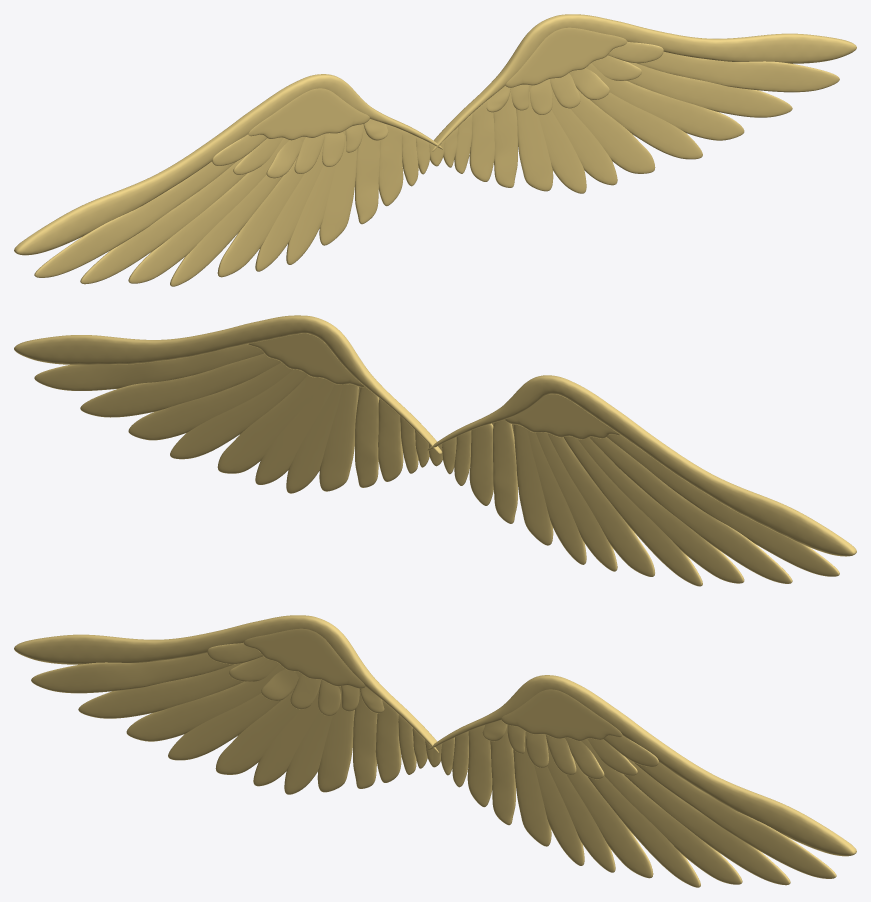
The model's file is Copper-wings.gltf.
3 views of the same model, one above another, from view 1: azimuth 30°, elevation 25°; view 2: azimuth 150°, elevation 25°; view 3: azimuth 330°, elevation 25° (orthographic).
Parts seen in each view (by area): view 1: Copper wings3; view 2: Copper wings3; view 3: Copper wings3.
Part boxes in pixels (x1,y1,x2,y2): Copper wings3: [14, 14, 856, 286]; Copper wings3: [14, 315, 856, 586]; Copper wings3: [14, 615, 856, 887].
Size of the model in its own units: 24.87 by 5.15 by 0.3113.
